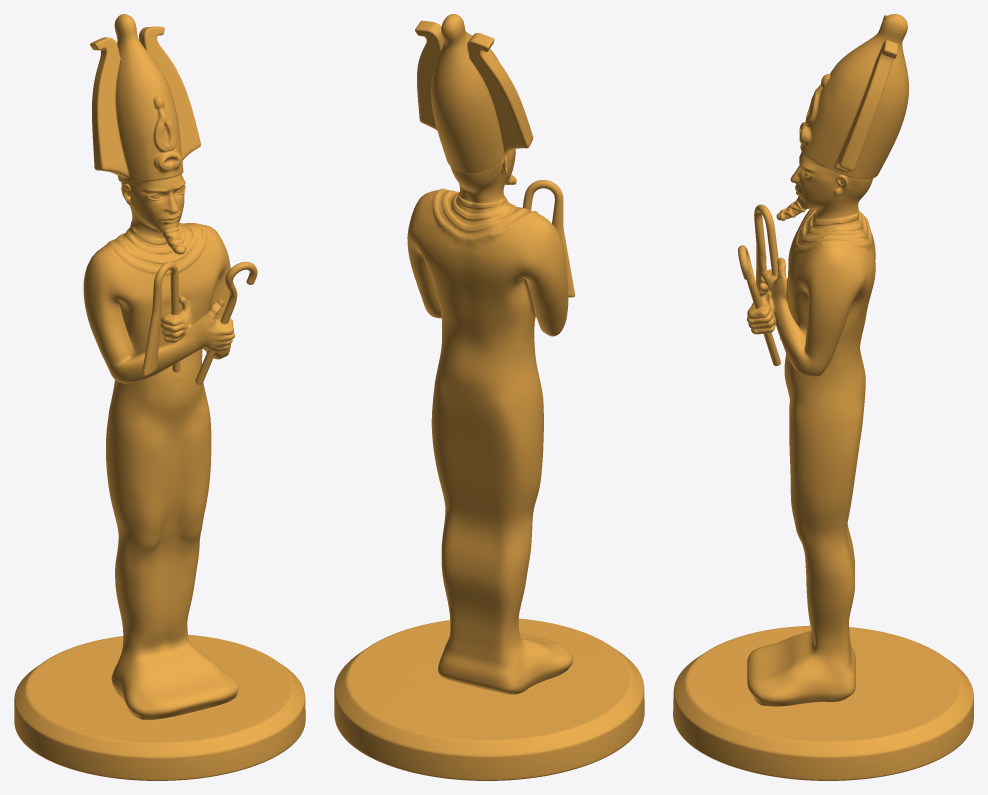
Rendered from Osiris.glb.
3 renders of one model, left to right at view 1: azimuth 30°, elevation 25°; view 2: azimuth 150°, elevation 25°; view 3: azimuth 270°, elevation 25°, orthographic. The views are drawn at different scales.
Visible parts, largest first — view 1: 16785_Osiris_v1_NEW; view 2: 16785_Osiris_v1_NEW; view 3: 16785_Osiris_v1_NEW.
Boxes of the visible parts, box(x1,y1,x2,y2) form: 16785_Osiris_v1_NEW: box(14, 14, 305, 780); 16785_Osiris_v1_NEW: box(334, 14, 644, 780); 16785_Osiris_v1_NEW: box(673, 14, 973, 780).
Size of the model in its own units: 3.99 by 10.31 by 3.99.
